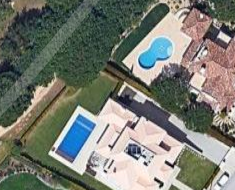pool: (68, 116, 88, 161), (142, 41, 171, 67)
